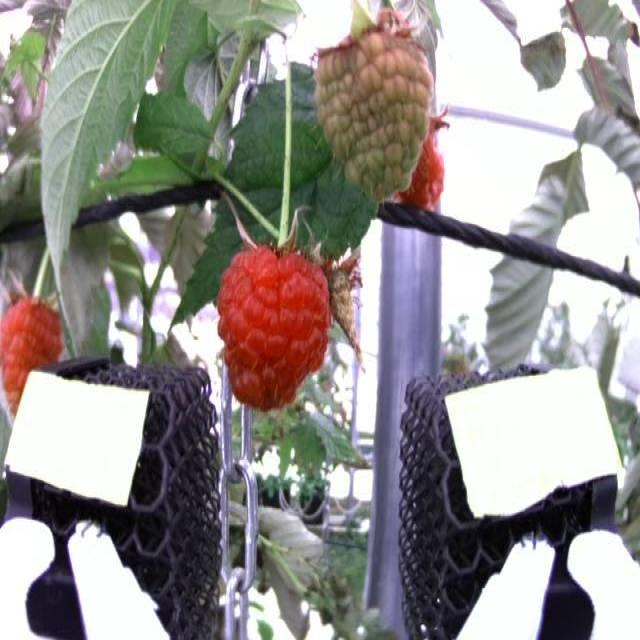Riped berries: (214, 240, 333, 411), (393, 98, 463, 217), (0, 286, 67, 398)
